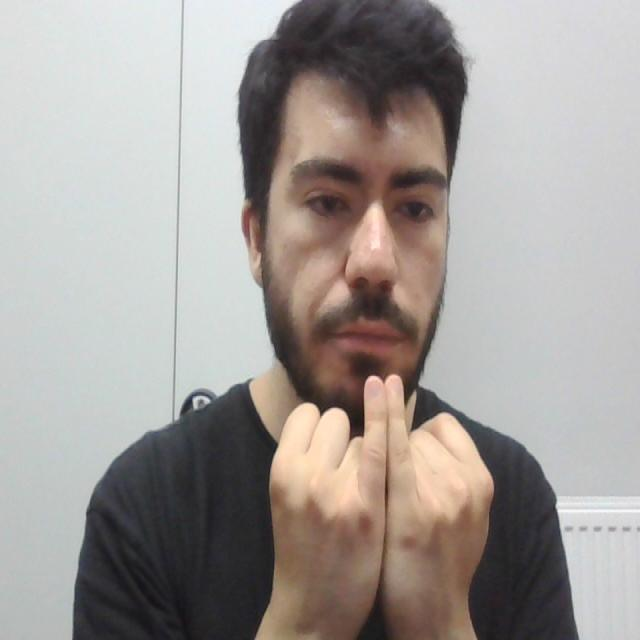Kardes: (258, 363, 503, 640)
